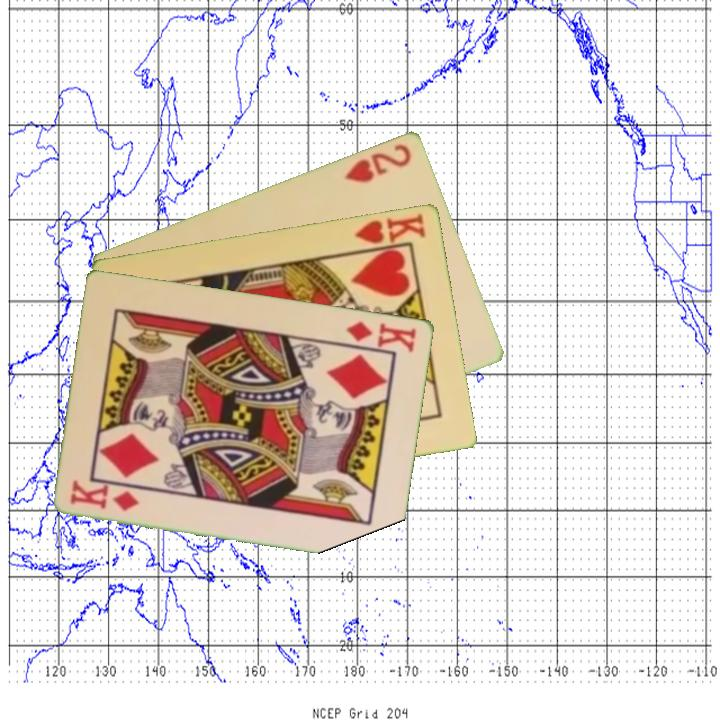2h: (340, 139, 415, 186)
Kd: (343, 317, 420, 355), (67, 477, 143, 514)
Kh: (349, 209, 429, 254)
